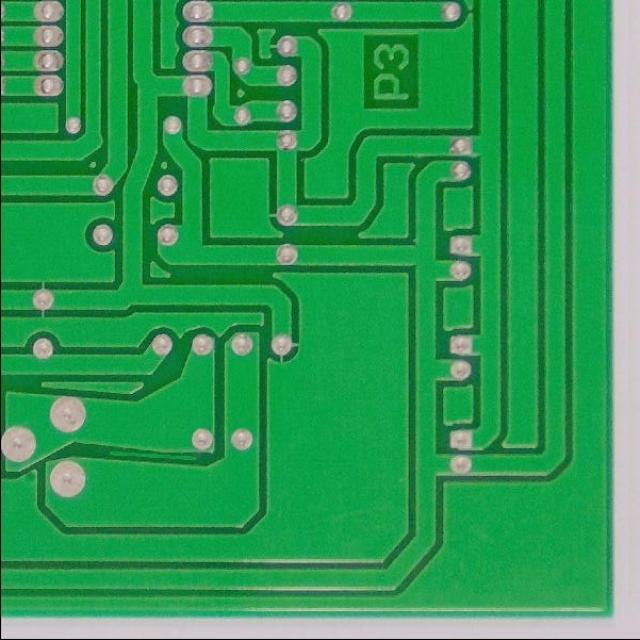Spurious_Cooper: (108, 445, 202, 462)
